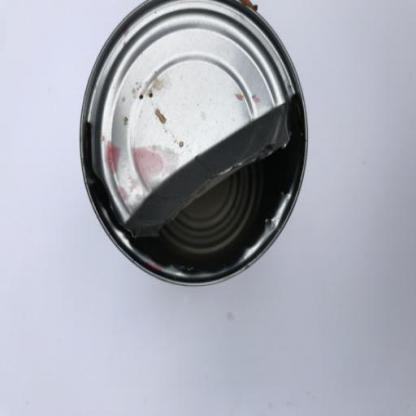METAL: (79, 0, 308, 285)
